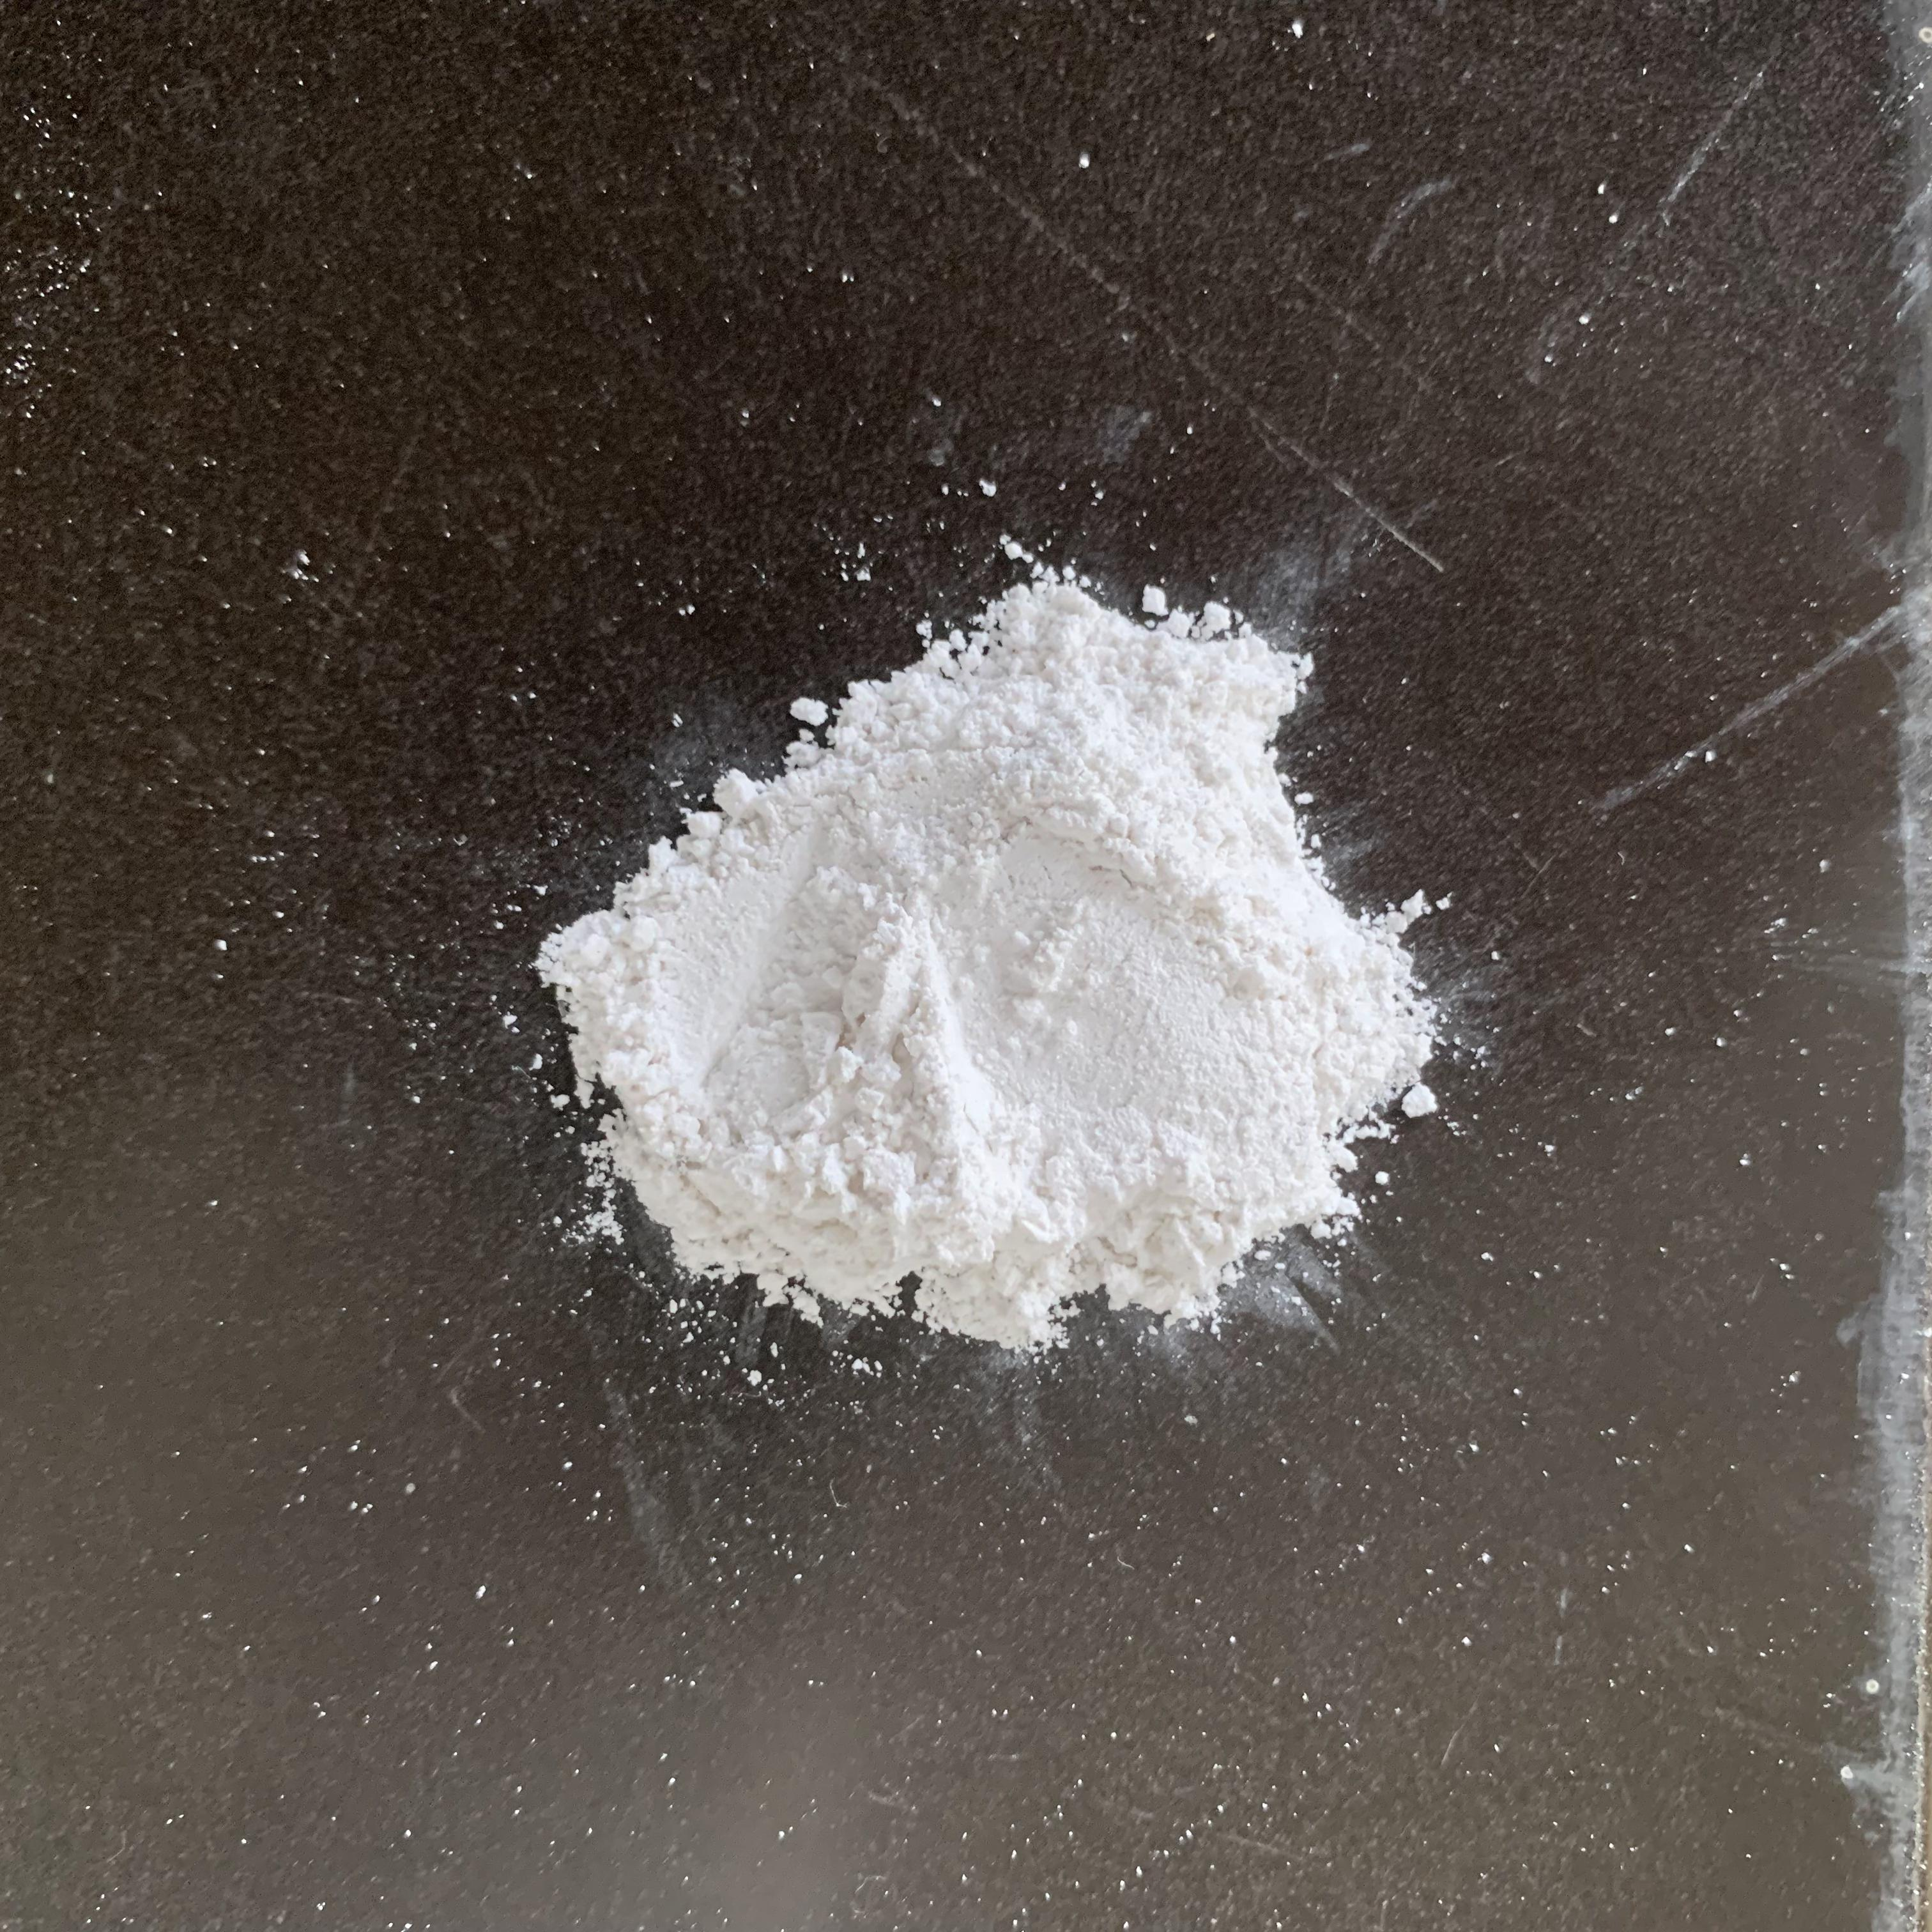ash pile: (531, 566, 1442, 1361)
